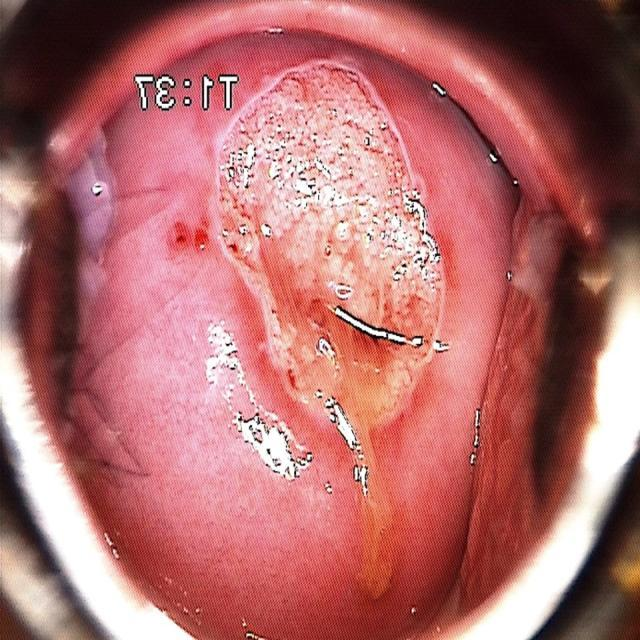cervical_lesion: (215, 69, 443, 576)
